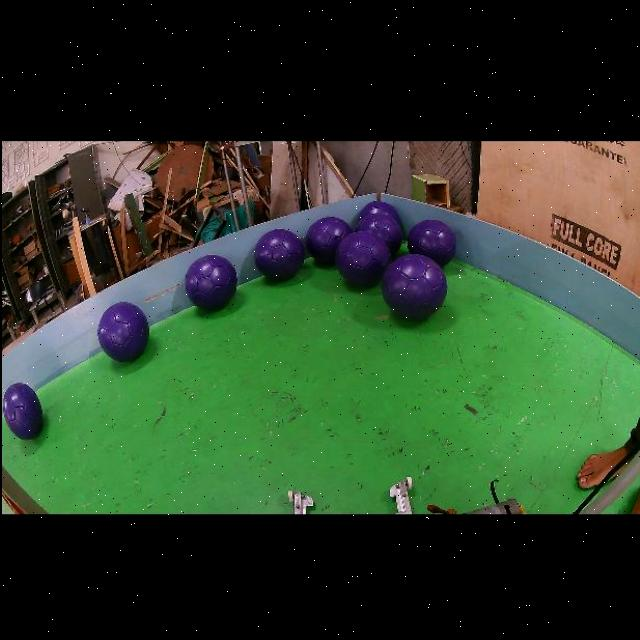P: (378, 254, 445, 320), (97, 300, 147, 360), (336, 229, 391, 283), (184, 254, 236, 308), (252, 228, 303, 278), (407, 217, 455, 266), (1, 382, 41, 438), (304, 215, 351, 261), (355, 212, 402, 252), (358, 199, 399, 222)
